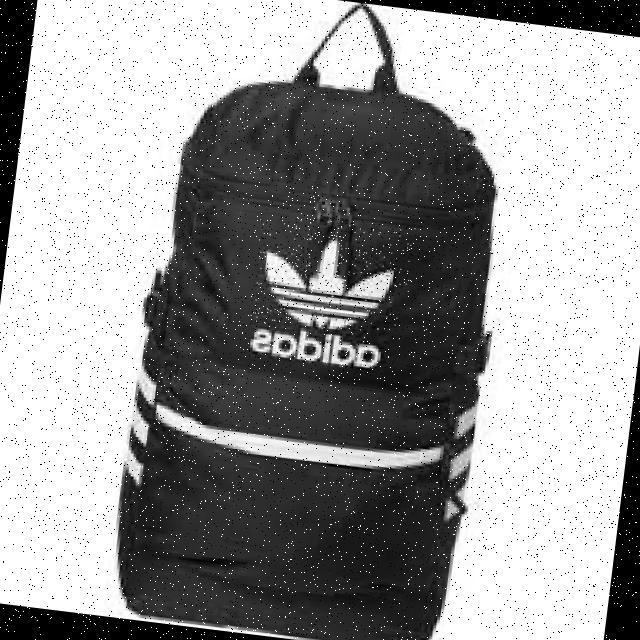Adidas: (247, 208, 416, 340)
